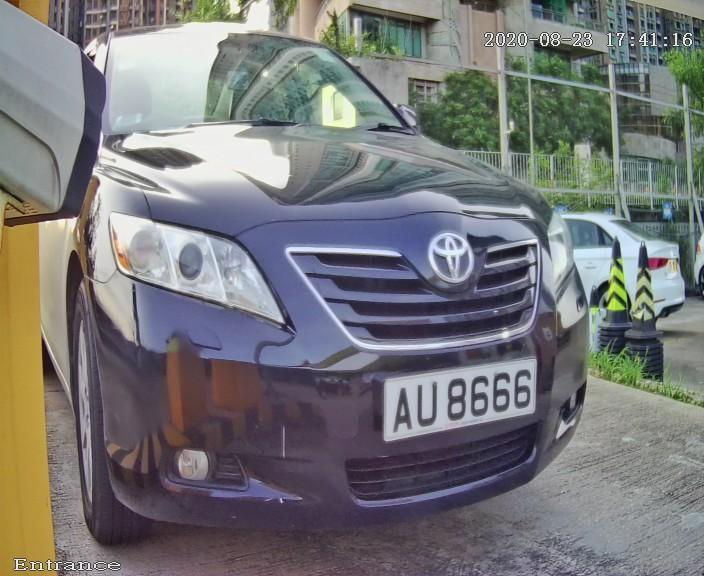Car: (16, 6, 635, 566)
License Plate: (344, 329, 584, 463)
